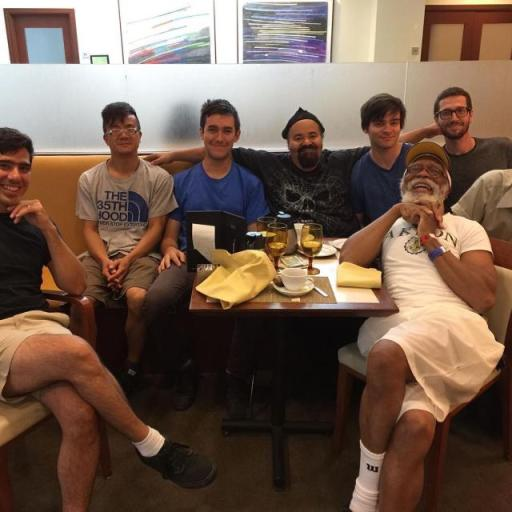The North Face: (127, 190, 149, 225)
